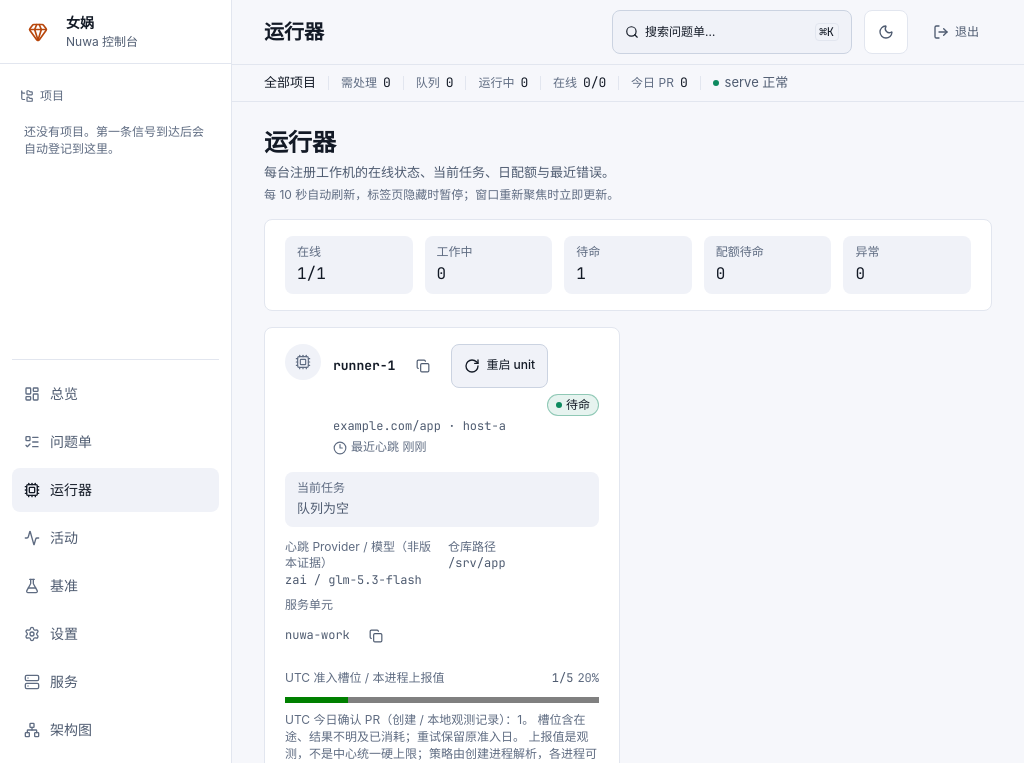
Test: RestartRunnerButton › explains a concurrent restart on 409
Click the button with aria-label "重启 unit：runner-1" at [500, 366], box [451,344,548,388]
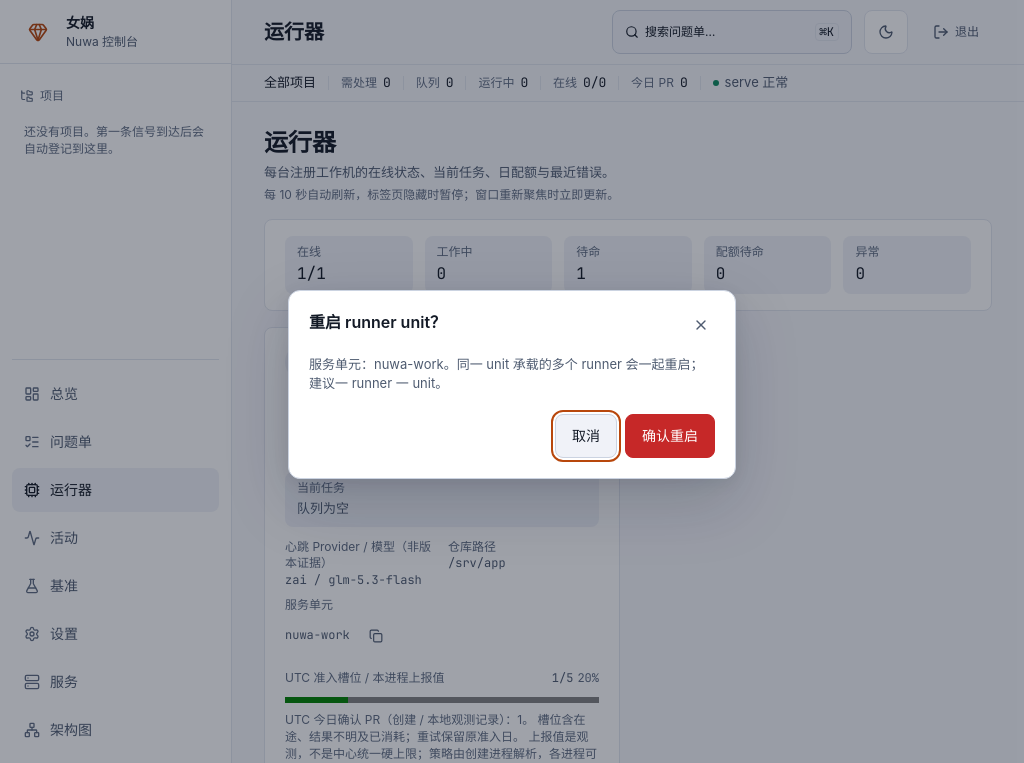
Click the button "确认重启" at [670, 436], box [625,414,715,458]
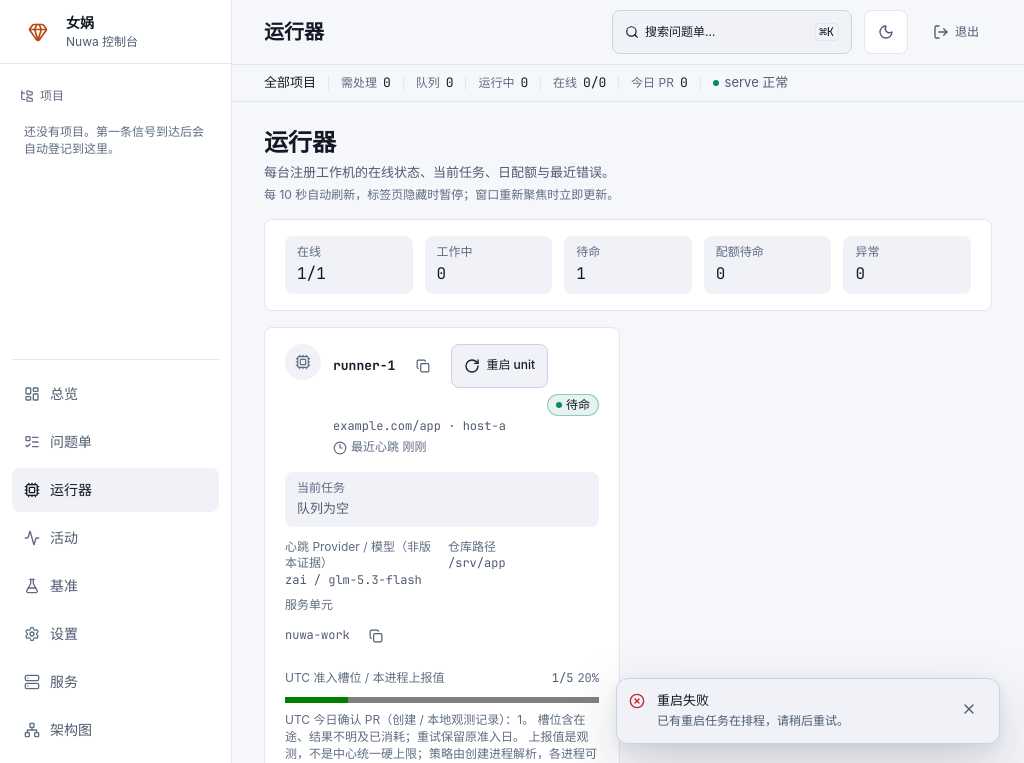
Expected: the text "重启失败" is shown, [657,692,709,708]
Expected: the text "已有重启任务在排程，请稍后重试。" is shown, [657,712,849,728]
